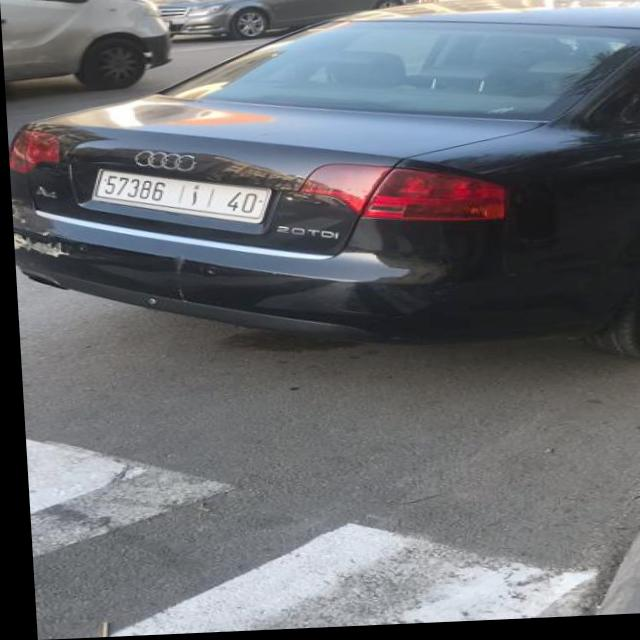License-Plate: (89, 171, 266, 225)
